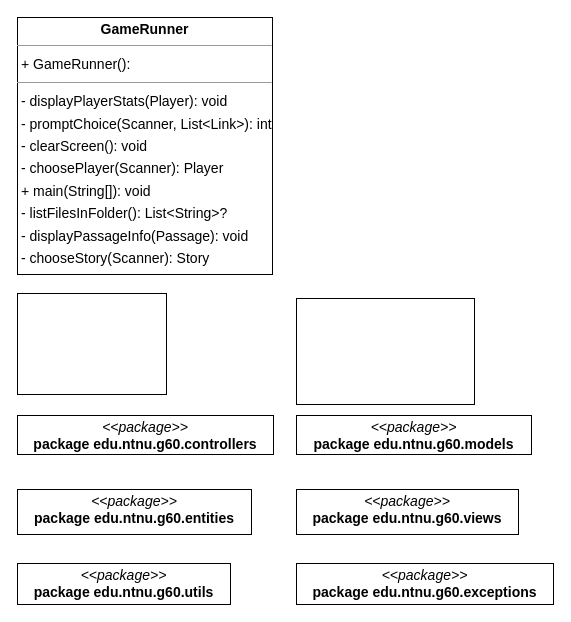
Some shapes in this 571 by 622 pixel diagram are drawn without their labels. Each missing label, with the centre of its shape:
App + App(): + main(String[]): void: [91,343]
GameAppLauncher + GameAppLauncher(): + main(String[]): void: [385,351]
